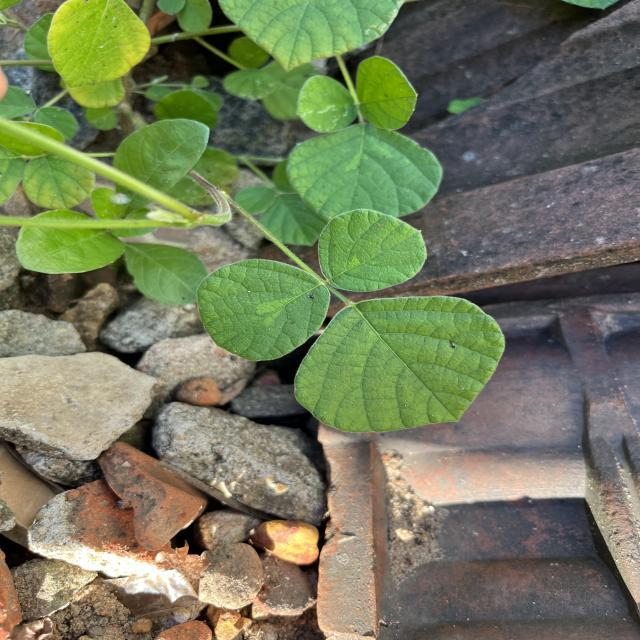Pseudarthria viscida: (195, 206, 508, 434)
